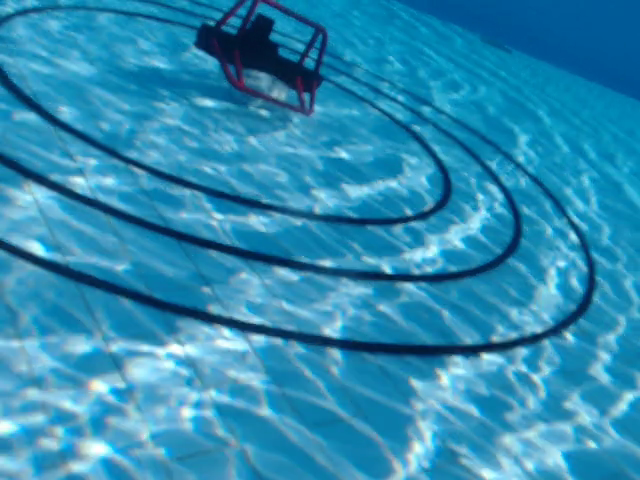submarine: (192, 1, 329, 116)
